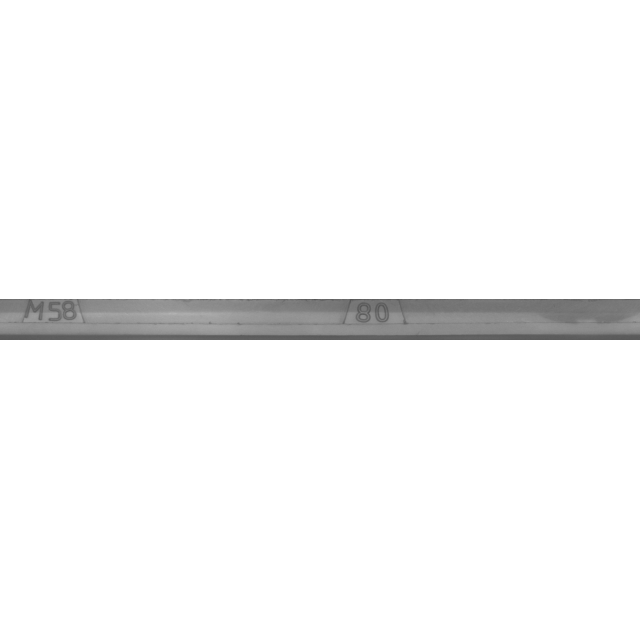mohao: (0, 270, 153, 370)
xuehao: (281, 270, 481, 370)
